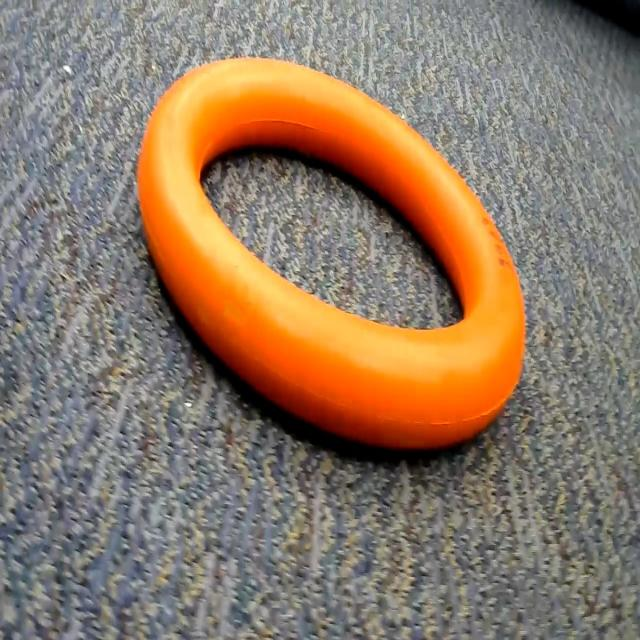note: (133, 52, 538, 488)
